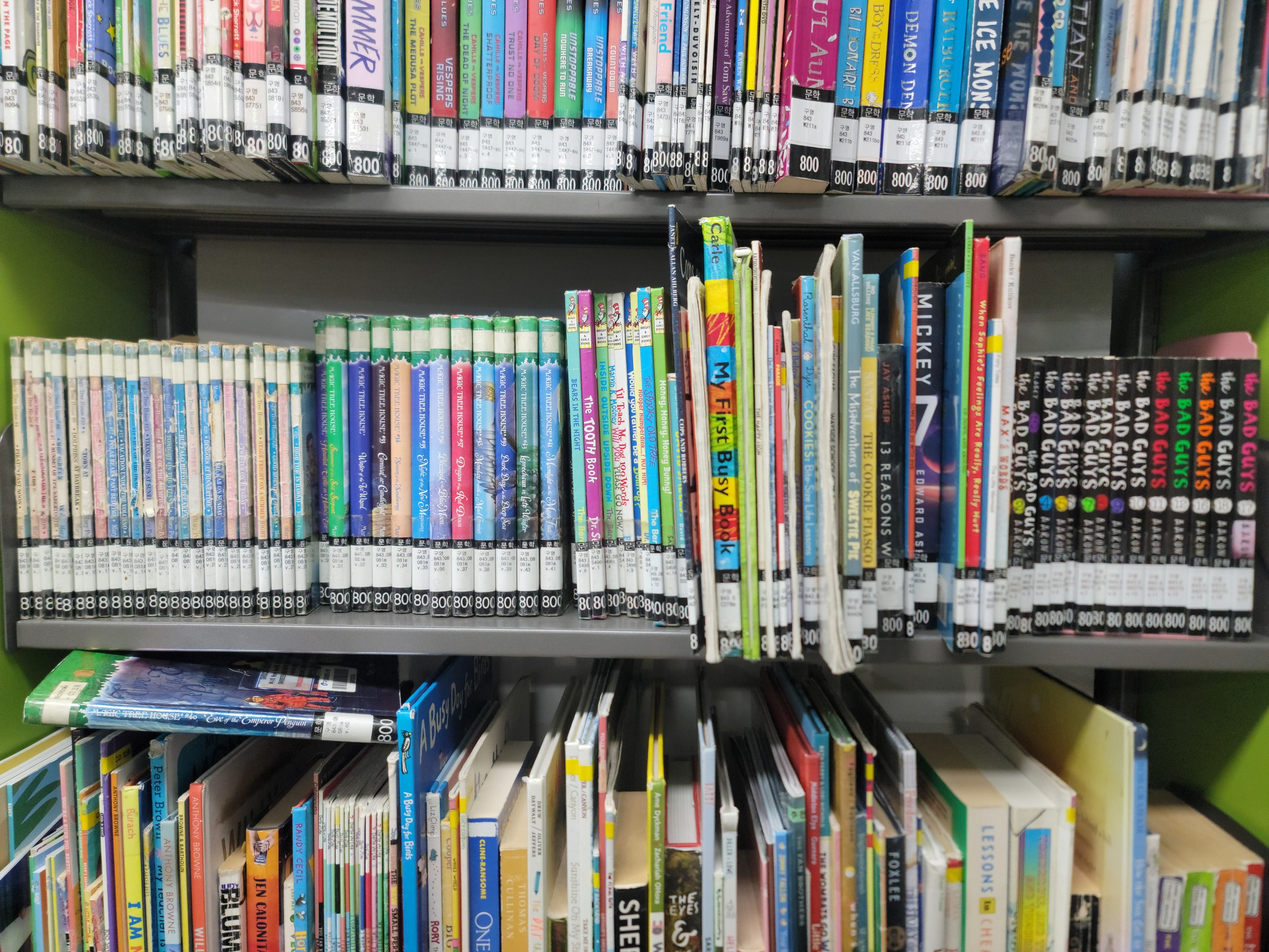book-spine: (701, 218, 741, 658), (992, 233, 1021, 652), (685, 282, 716, 662), (962, 236, 989, 654), (913, 287, 945, 631), (606, 293, 639, 626), (667, 205, 692, 640), (576, 291, 607, 625), (562, 291, 592, 625), (1048, 358, 1084, 636), (649, 283, 678, 627), (604, 293, 633, 626), (591, 294, 620, 625), (1205, 360, 1239, 639), (637, 290, 665, 625), (1163, 358, 1196, 636), (1184, 359, 1217, 637), (1120, 358, 1153, 635), (1141, 359, 1174, 635), (952, 223, 973, 651), (736, 252, 758, 660), (1230, 359, 1261, 639), (729, 245, 750, 658), (979, 312, 1004, 657), (1030, 358, 1061, 636), (629, 291, 654, 626), (622, 293, 647, 626), (1103, 359, 1133, 636), (1074, 356, 1103, 637), (642, 288, 666, 626), (877, 345, 904, 640), (42, 341, 70, 617), (1017, 355, 1044, 636), (1088, 356, 1115, 635), (1004, 360, 1031, 635), (325, 315, 349, 620), (348, 315, 372, 620), (844, 234, 861, 659), (757, 272, 777, 632), (6, 334, 31, 620), (494, 315, 517, 623), (451, 315, 474, 622), (539, 317, 562, 624), (472, 317, 495, 623), (516, 318, 539, 624), (30, 339, 55, 617), (86, 340, 110, 618), (158, 341, 182, 617), (861, 271, 878, 655), (62, 336, 85, 618), (430, 315, 451, 622), (111, 340, 134, 619), (390, 316, 411, 621), (169, 342, 192, 618), (676, 363, 699, 639), (123, 342, 146, 616), (231, 343, 254, 617), (21, 335, 43, 619), (74, 339, 96, 618), (371, 316, 391, 621), (207, 340, 229, 617), (182, 344, 204, 618), (802, 275, 818, 649), (411, 316, 430, 621), (196, 342, 217, 617), (250, 342, 271, 617), (101, 345, 122, 618), (262, 346, 283, 619), (220, 344, 241, 616), (666, 373, 688, 626), (137, 340, 157, 618), (150, 342, 170, 618), (287, 347, 307, 619), (275, 350, 295, 618), (758, 308, 773, 657), (314, 318, 331, 619), (906, 245, 918, 638), (774, 319, 786, 655), (771, 348, 784, 657), (782, 315, 793, 643), (768, 327, 779, 653), (781, 325, 791, 653), (792, 315, 802, 641)
